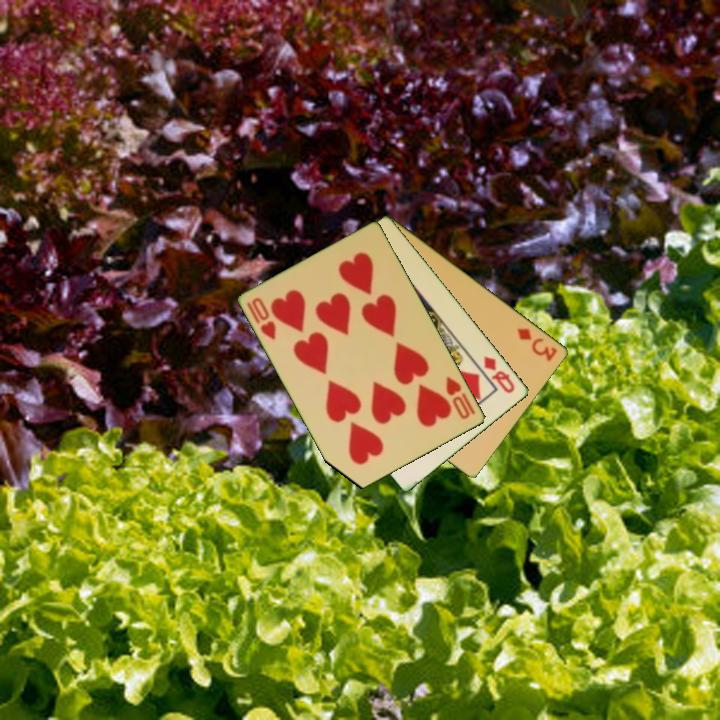10h: (244, 294, 279, 343), (443, 373, 473, 423)
3d: (514, 324, 560, 365)
Qd: (480, 352, 518, 397)
